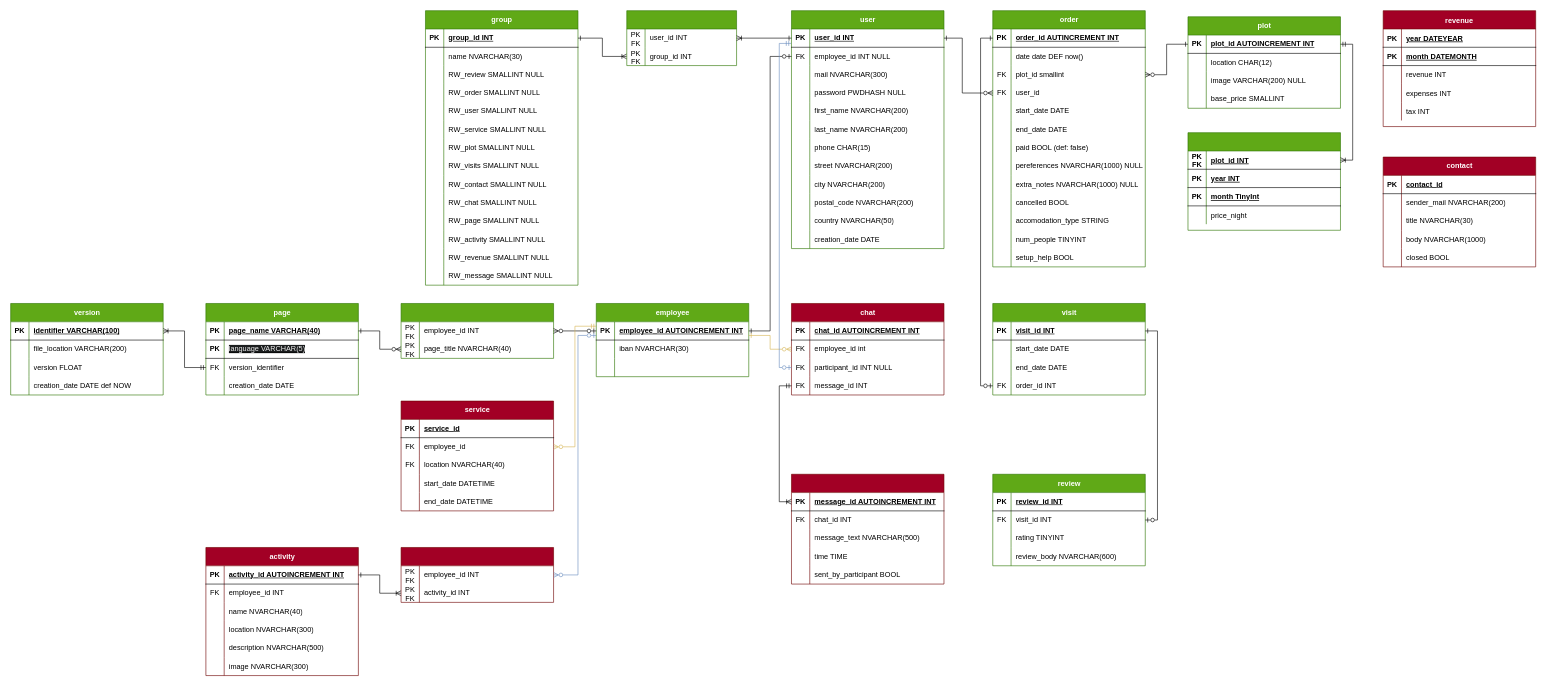
This 1546x686 diagram has some shape labels left out. The shapes that lost their labels are listed below. From the top down, each one's box as (x1, y1, x2, y2) in pixels, then its label:
(626, 10, 737, 66): group_user
(1187, 132, 1340, 230): plot_price
(400, 303, 554, 358): page_employee
(791, 474, 944, 584): chat_message
(400, 547, 554, 602): activity_employee
